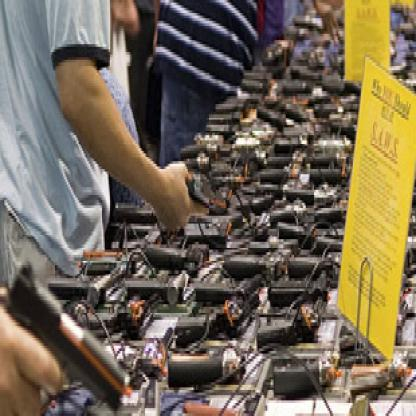gun: (0, 250, 132, 414), (164, 333, 255, 403), (165, 154, 231, 236)
